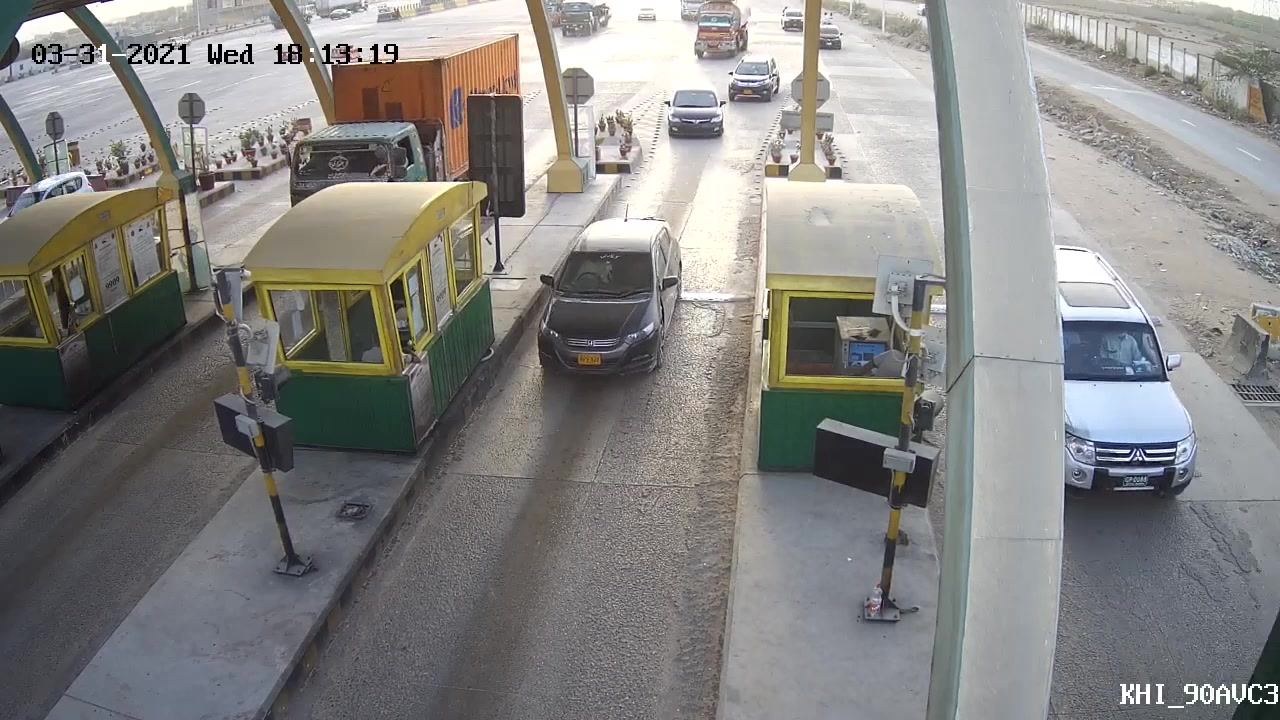F1: (531, 208, 690, 384)
